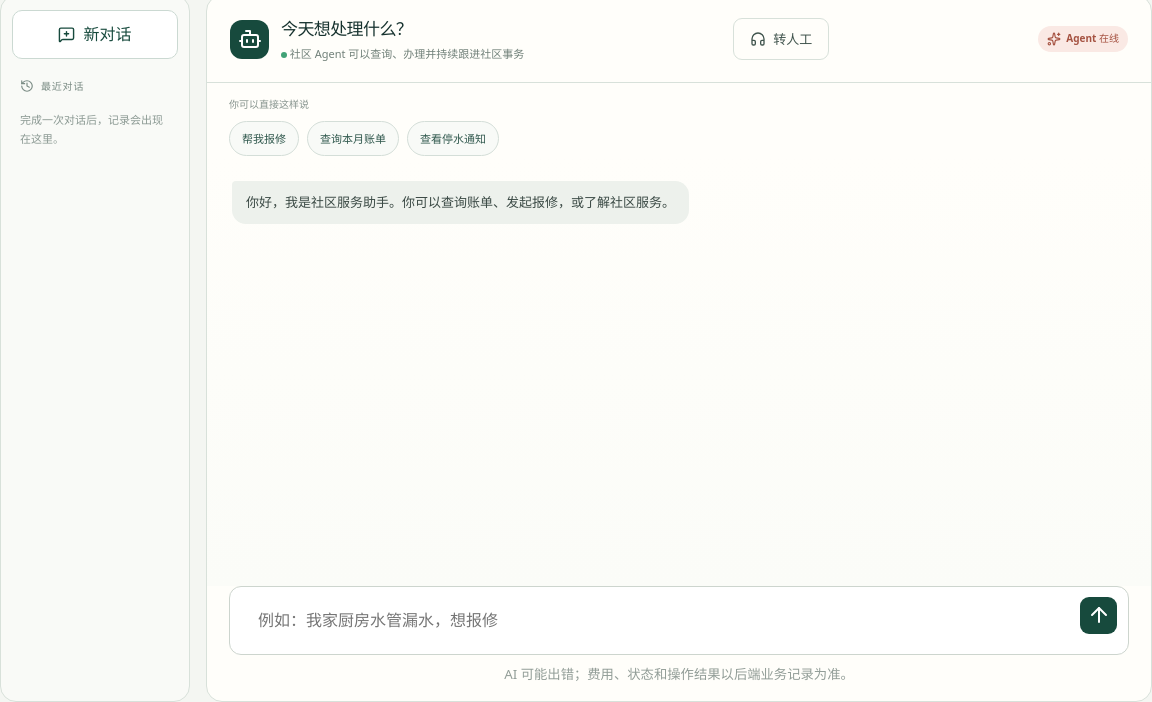
Scenario: Agent home flow › guides an incomplete repair one question at a time
(page scrolled)
Step 1. Type "我要报修" into the field named "发送给社区智能体" → coordinates (658, 620), box top-left (246, 597), bottom-right (1070, 644)
Step 2. Click the button named "发送" → coordinates (1098, 615), box top-left (1080, 597), bottom-right (1117, 634)
(page scrolled)
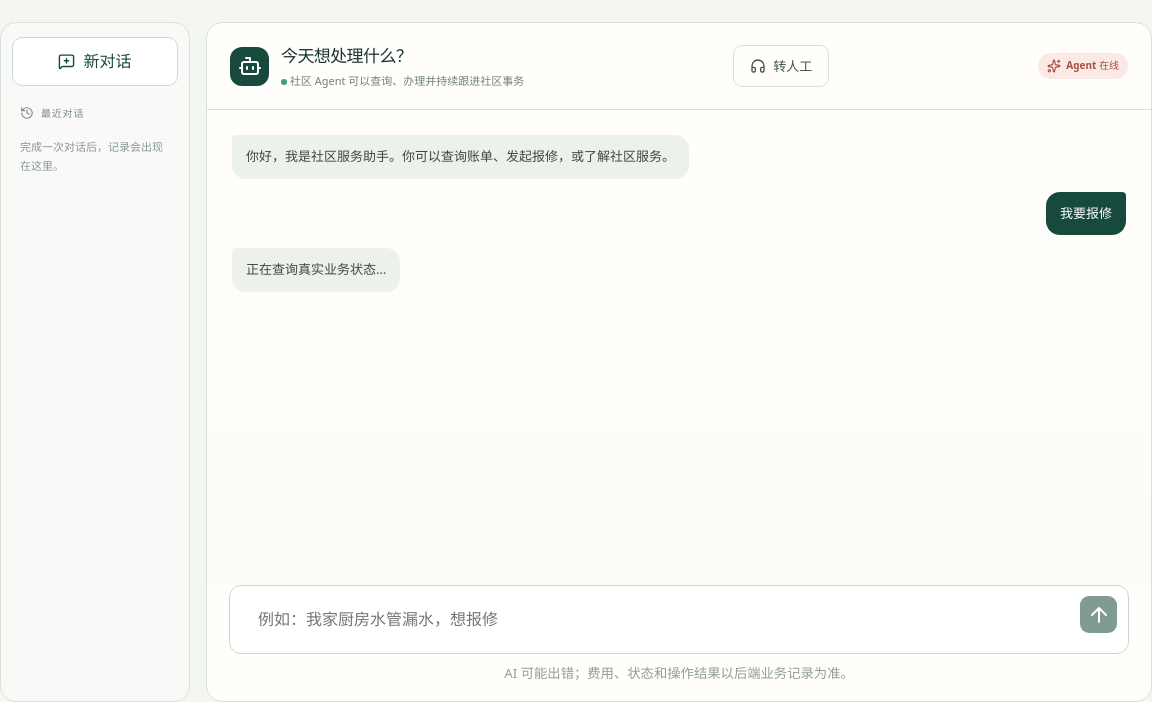
Step 3. Type "插座频繁跳闸" into the field named "发送给社区智能体" → coordinates (658, 620), box top-left (246, 596), bottom-right (1070, 643)
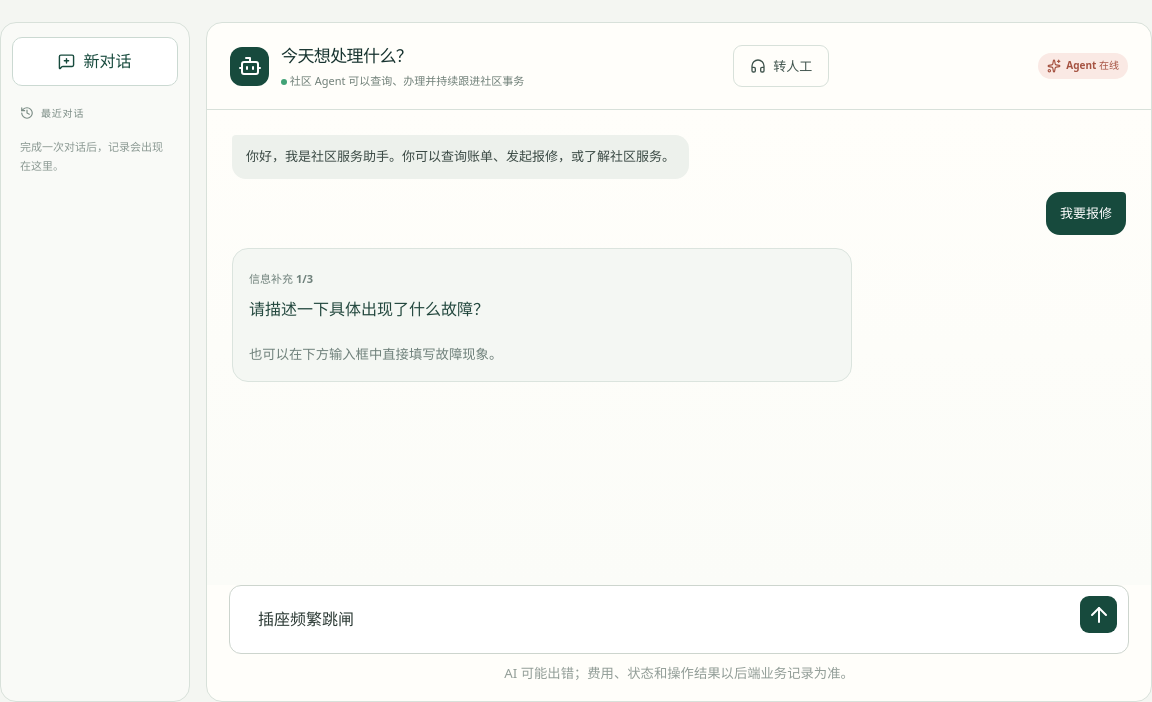
Step 4. Click the button named "发送" → coordinates (1098, 615), box top-left (1080, 596), bottom-right (1117, 633)
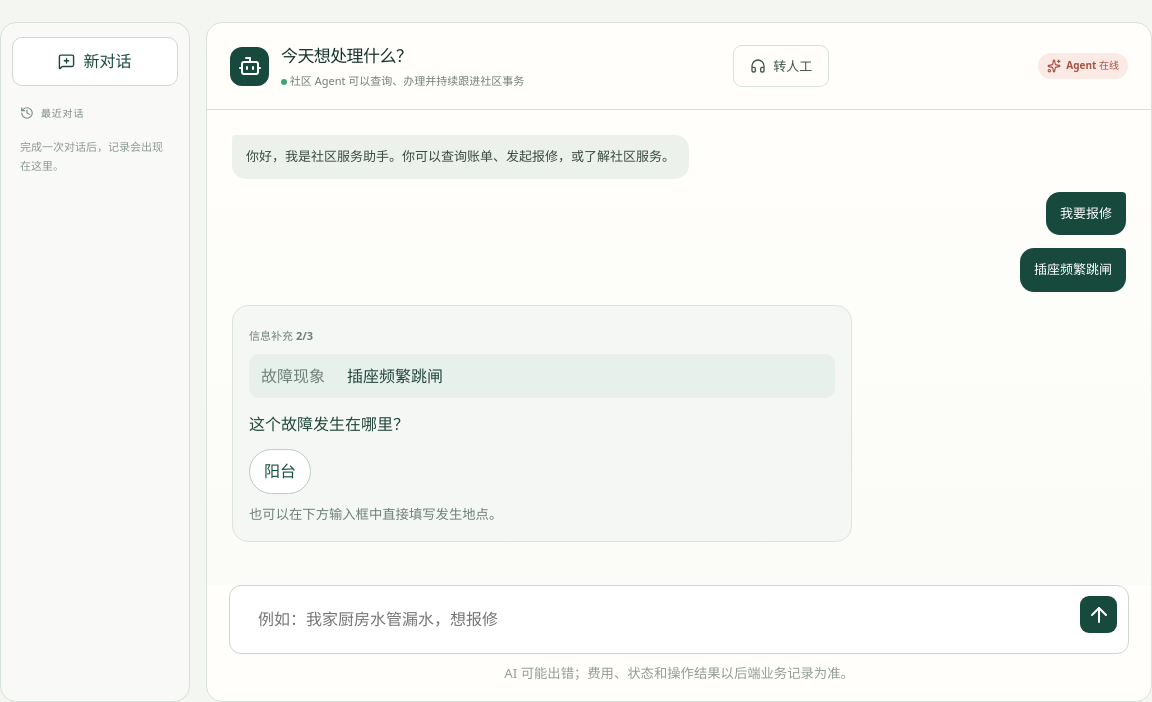
Expected: the text "信息补充 2/3" is shown, top-left (249, 327), bottom-right (313, 344)
Step 5. Click the button "阳台" → coordinates (280, 472), box top-left (249, 449), bottom-right (311, 494)
(page scrolled)
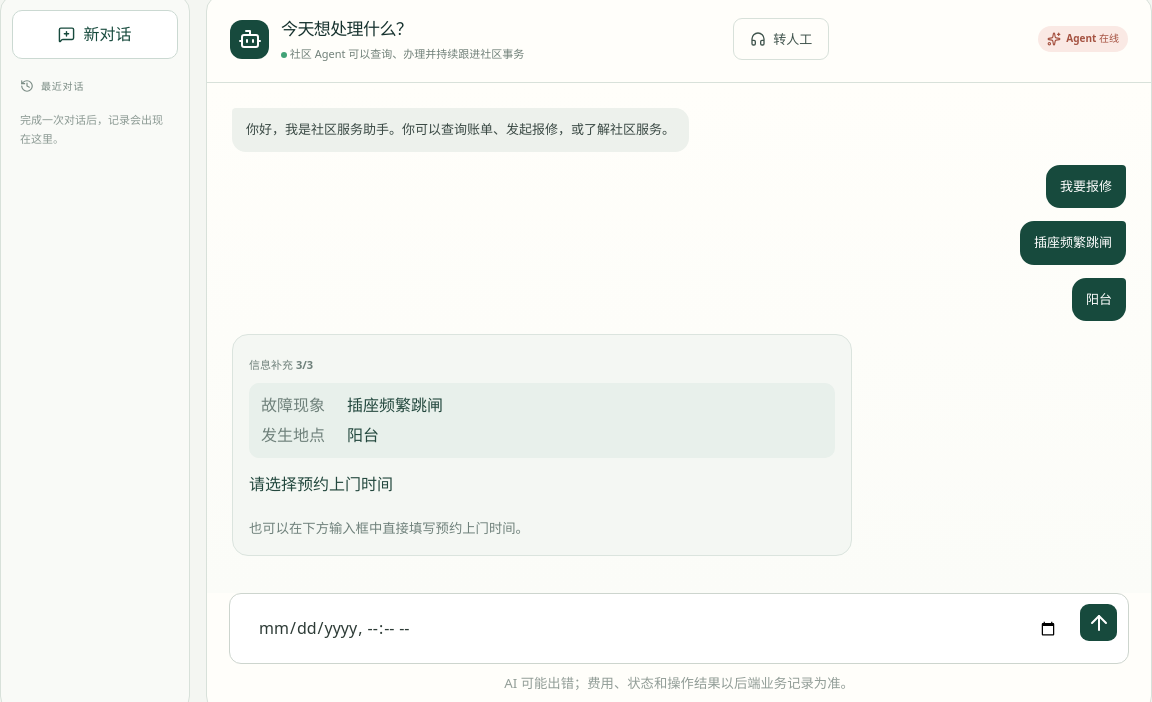
Expected: the field named "发送给社区智能体" has attribute type="datetime-local"
Step 6. Type "2026-08-31T21:25" into the field named "发送给社区智能体" → coordinates (658, 628), box top-left (246, 604), bottom-right (1070, 653)
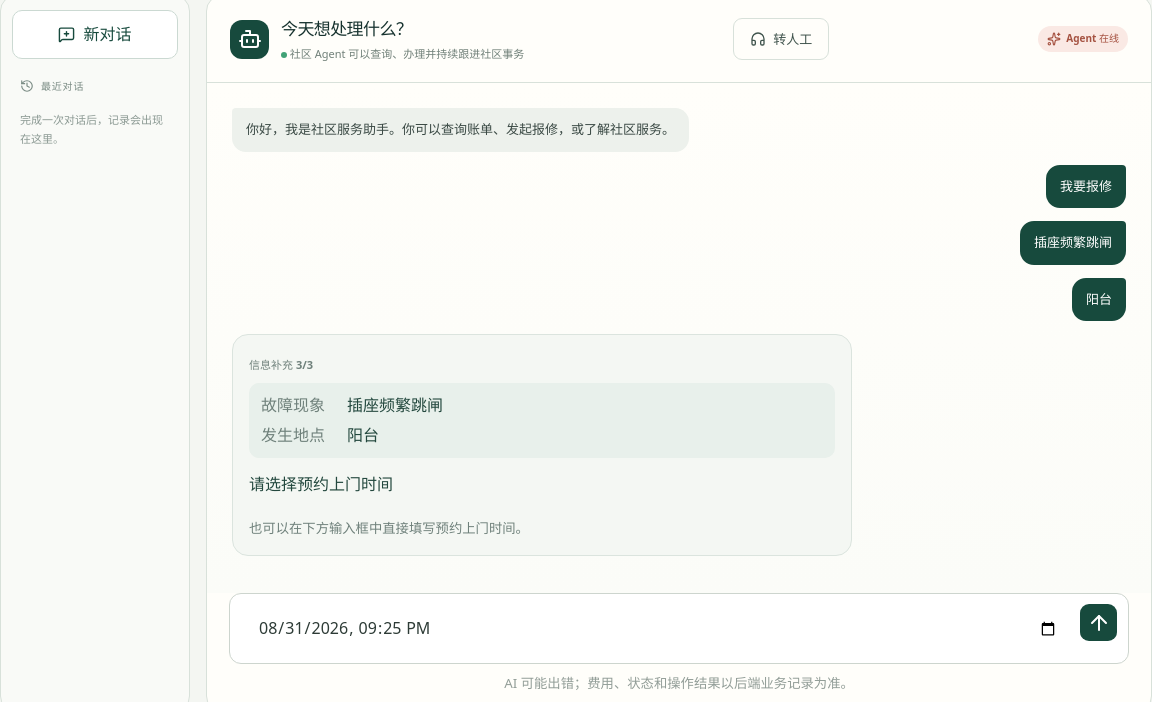
Step 7. Click the button named "发送" → coordinates (1098, 623), box top-left (1080, 604), bottom-right (1117, 641)
(page scrolled)
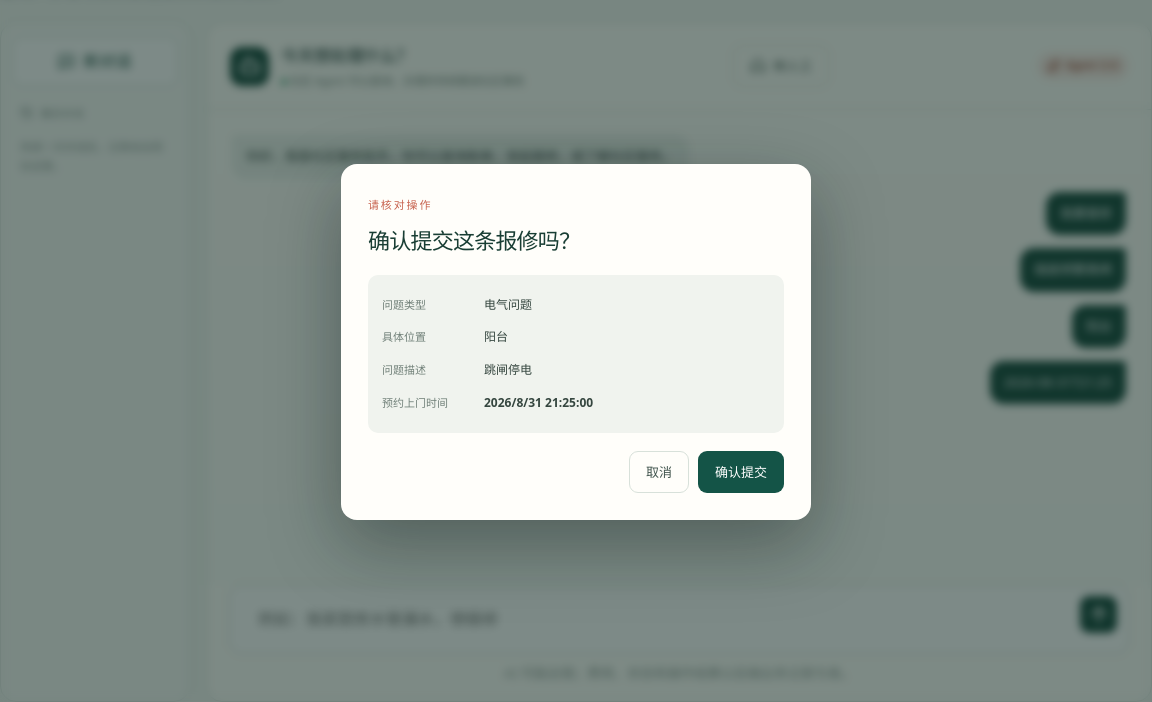
Expected: the heading "确认提交这条报修吗？" is shown, top-left (368, 225), bottom-right (580, 255)
Expected: the text "预约上门时间" reads "预约上门时间 2026/8/31 21:25:00", top-left (484, 394), bottom-right (593, 410)
